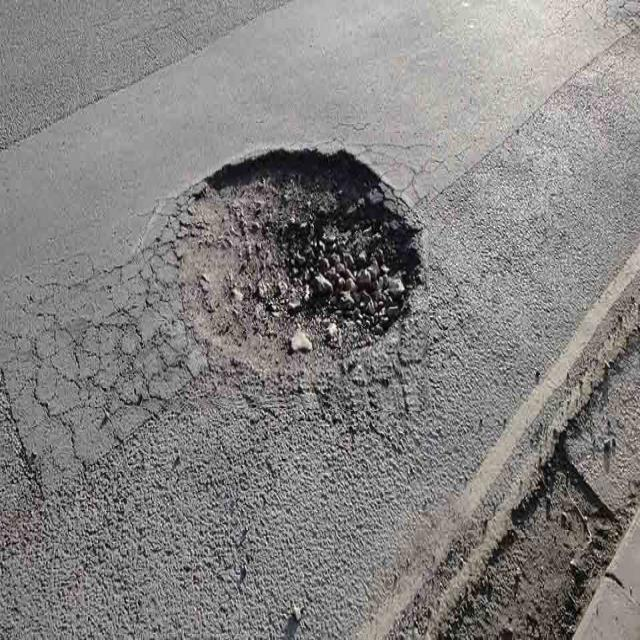Pothole: (143, 133, 431, 410)
